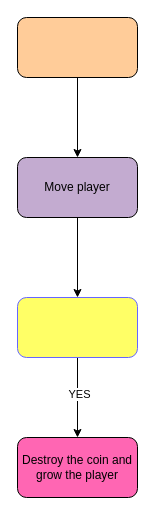
Some shapes in this 155 by 515 pixel diagram are drawn without their labels. The shapes that lost their labels are listed below. From the top down, each one's centre as x and y in pixels, then its label:
At point (77, 47): "Detect arrow".
At point (77, 327): "Hit the coin".
